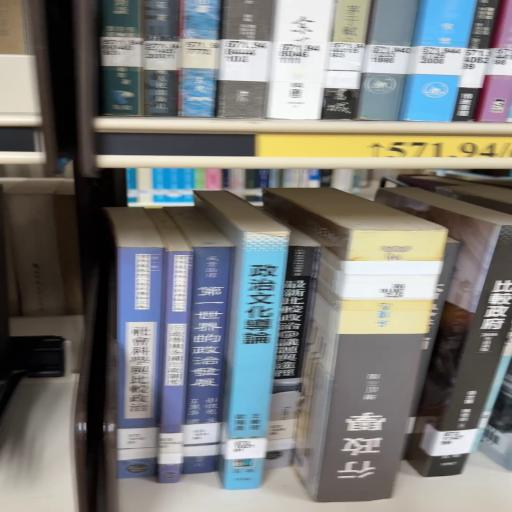reverse: (264, 189, 447, 502)
